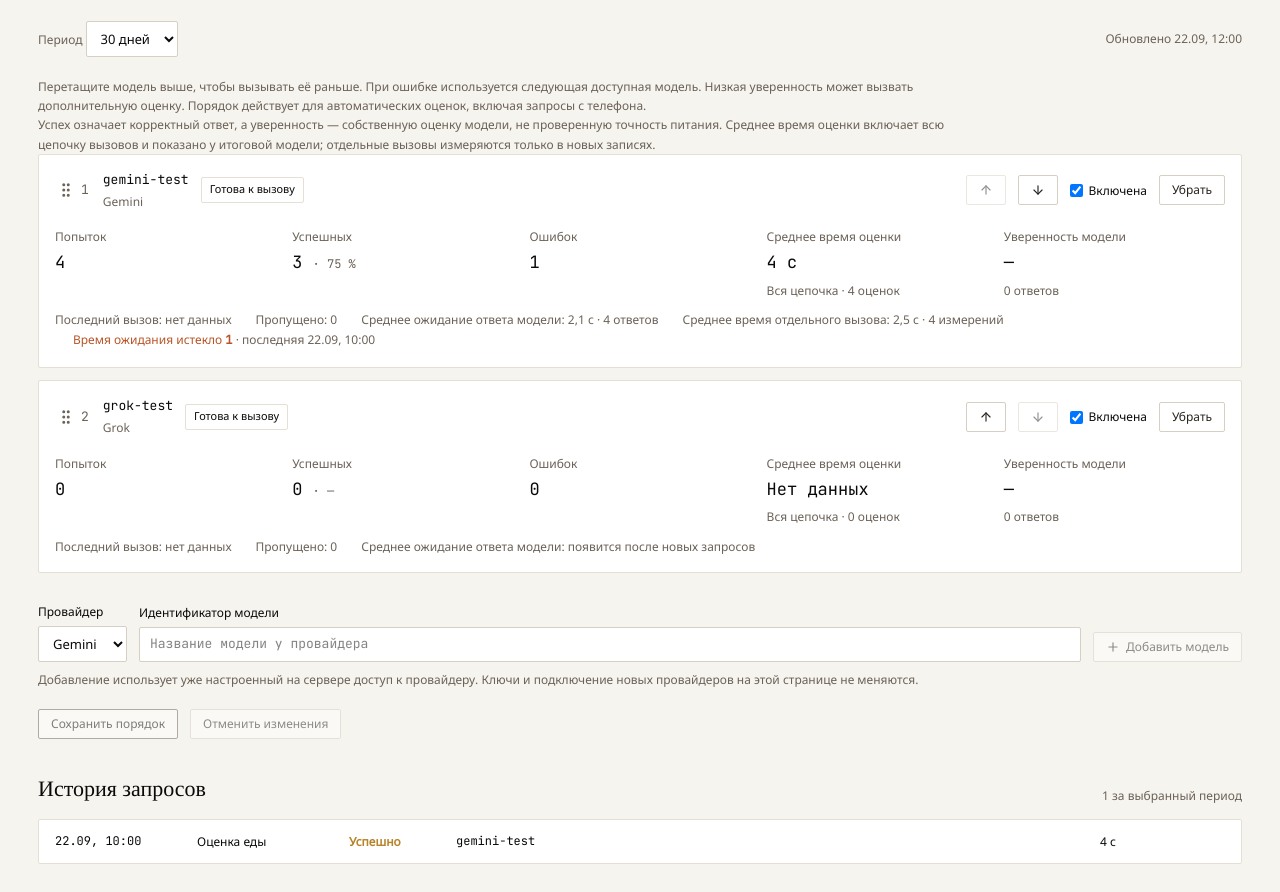
model management › shows request history and safe attempt details
The image size is (1280, 892).
(page scrolled)
Expected: the heading "История запросов" is shown, [38, 773, 206, 805]
Expected: the text "1 за выбранный период" is shown, [1102, 787, 1242, 805]
What coordinates should you click on to do the following:
click the text "Оценка еды"
I would click on:
 (232, 842)
Its box is [197, 833, 266, 850].
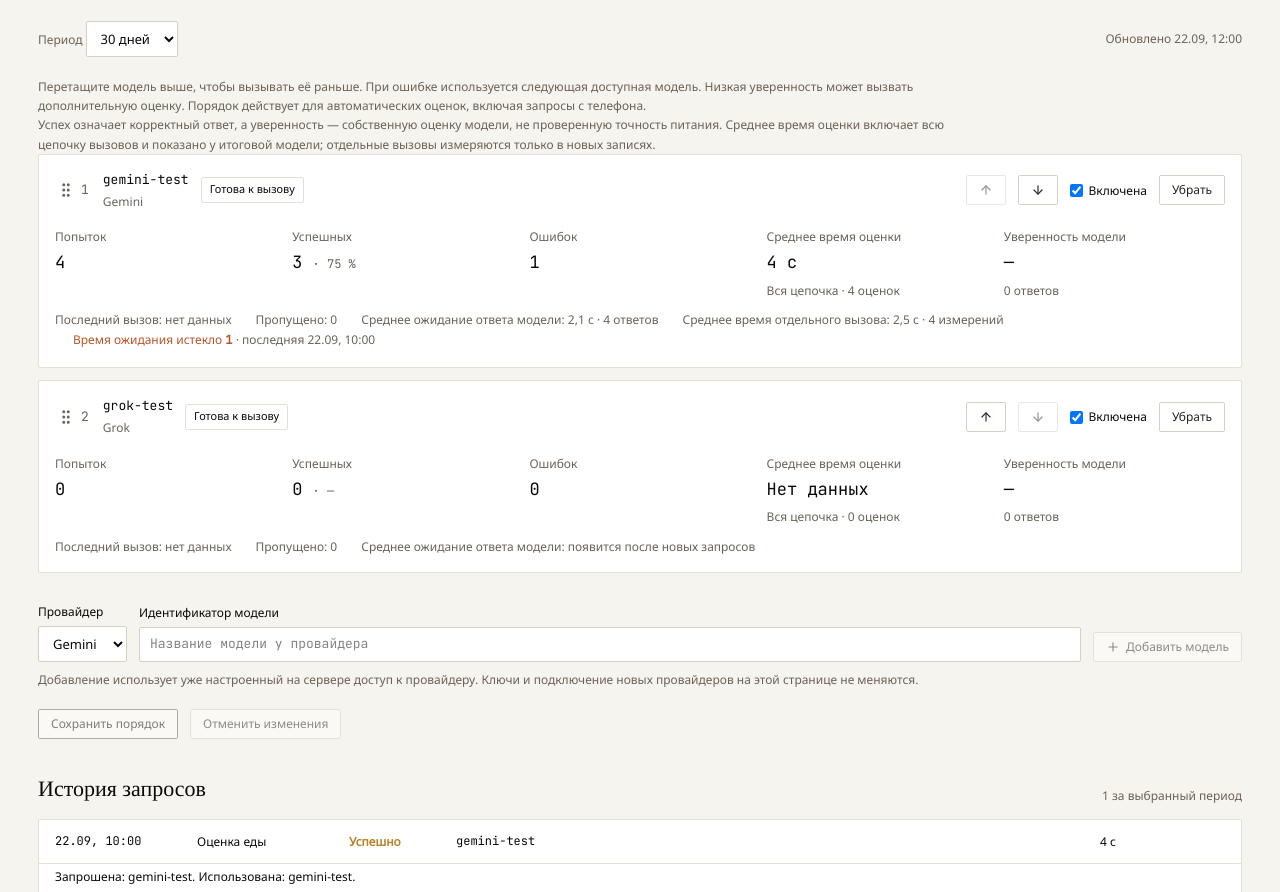
Expected: the list item "Время ожидания истекло" is shown, [73, 331, 222, 348]
Expected: the text "Запрошена: gemini-test. Использована: gemini-test." is shown, [55, 868, 355, 885]
